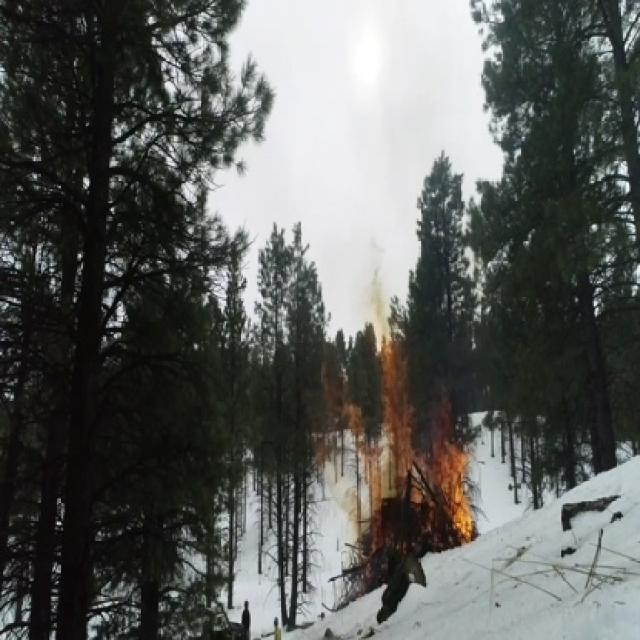Fire: (376, 318, 432, 554), (314, 377, 380, 523), (435, 385, 472, 538)
